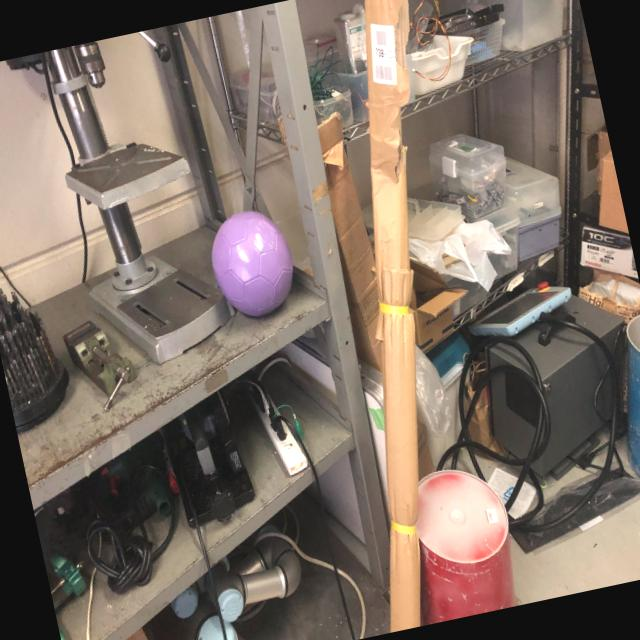purple_ball: (202, 203, 300, 323)
